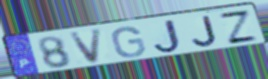8: (37, 35, 72, 69)
G: (110, 25, 148, 59)
J: (152, 18, 183, 55), (190, 14, 219, 48)
V: (67, 27, 104, 66)
Z: (216, 9, 261, 45)
